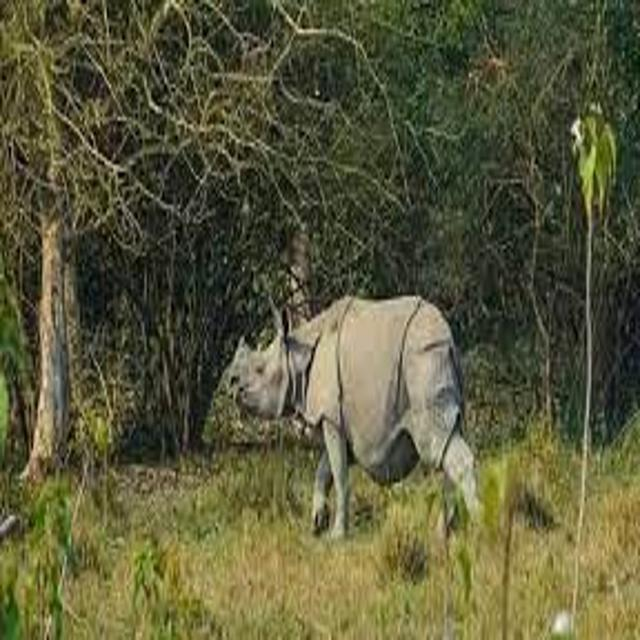rhino: (181, 266, 524, 578)
